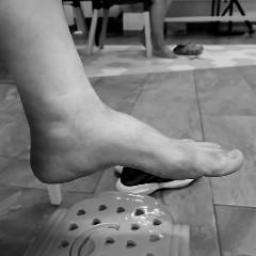Medial View -Left Foot-: (10, 79, 250, 208)
